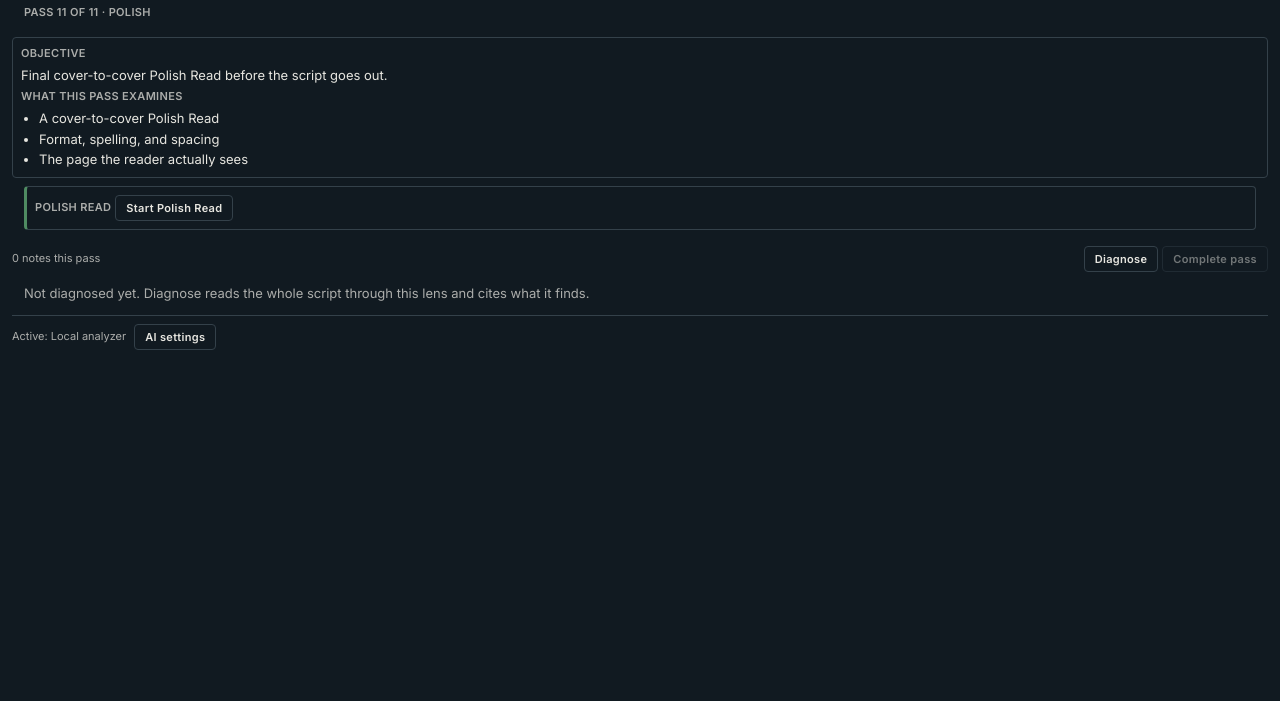
Test: the guided pass workspace › reject leaves the element alone and archives the finding visibly
This screenshot has width=1280, height=701.
Click the button "Diagnose". click: (1121, 259)
box: [1084, 246, 1158, 272]
(page scrolled)
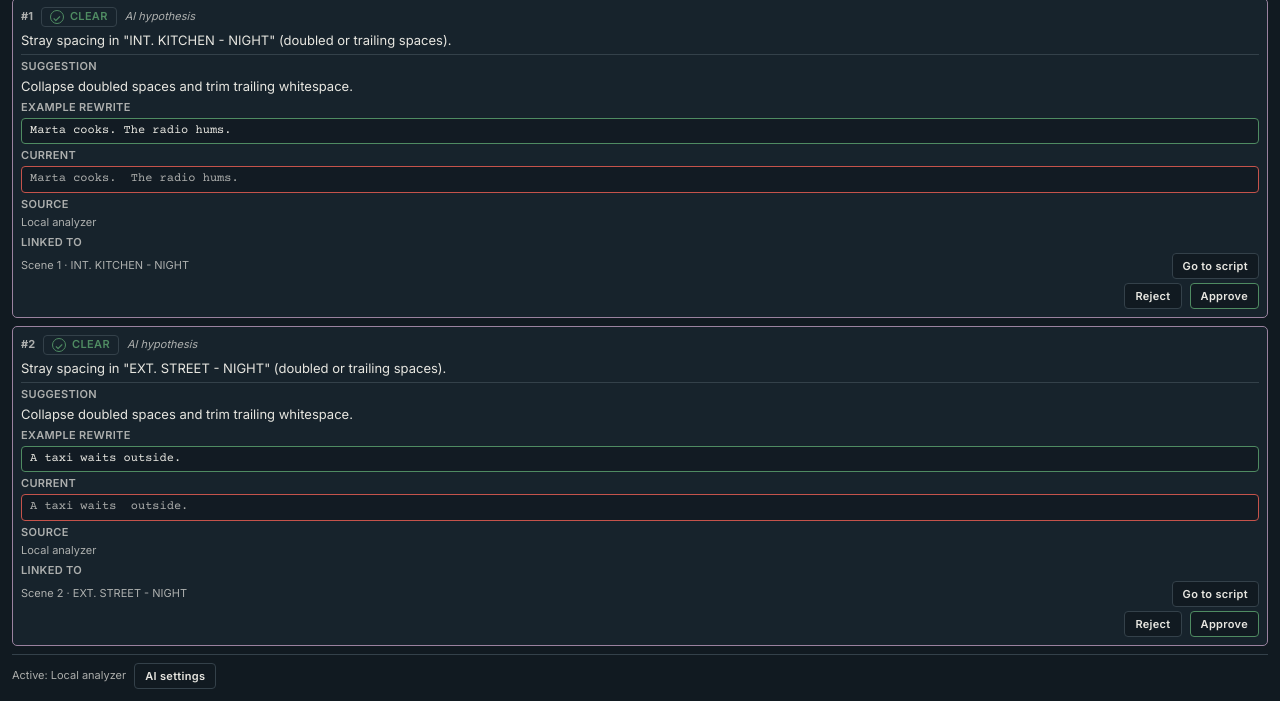
Click the 2nd button "Reject". click: (1153, 624)
box: [1124, 611, 1182, 637]
(page scrolled)
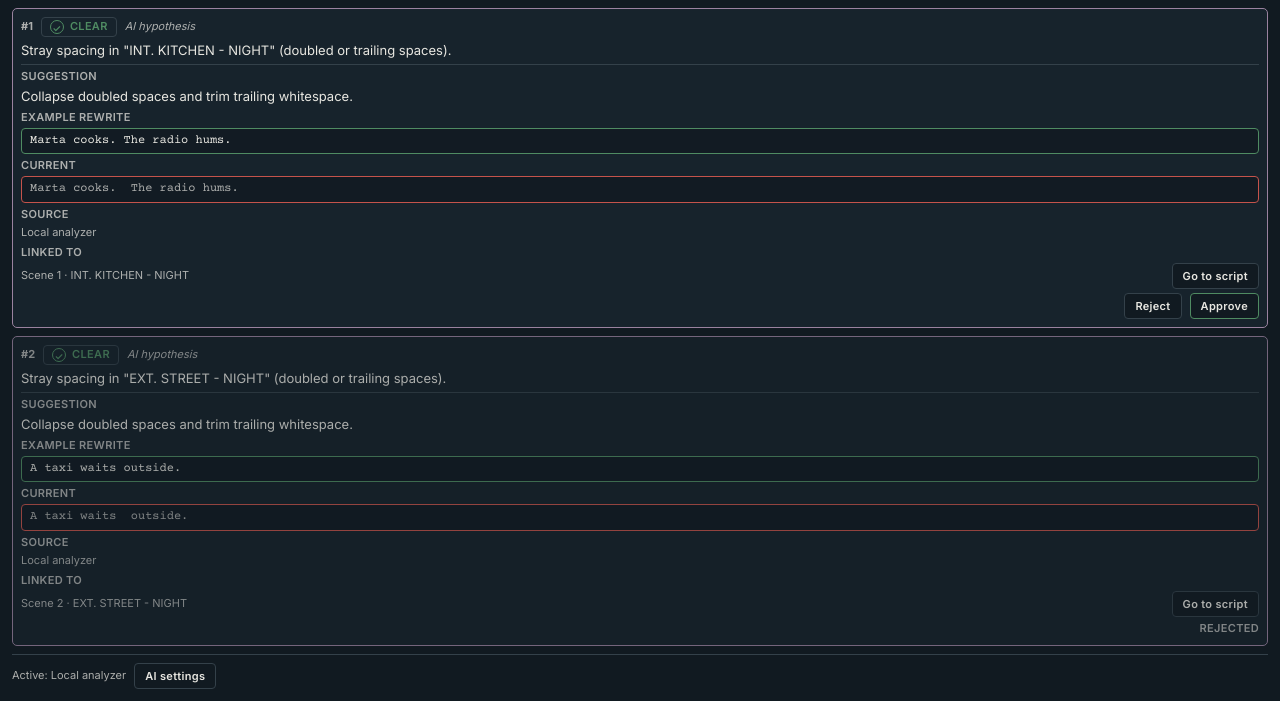
Result: the text "Rejected" is shown at [1200, 621, 1259, 637]
